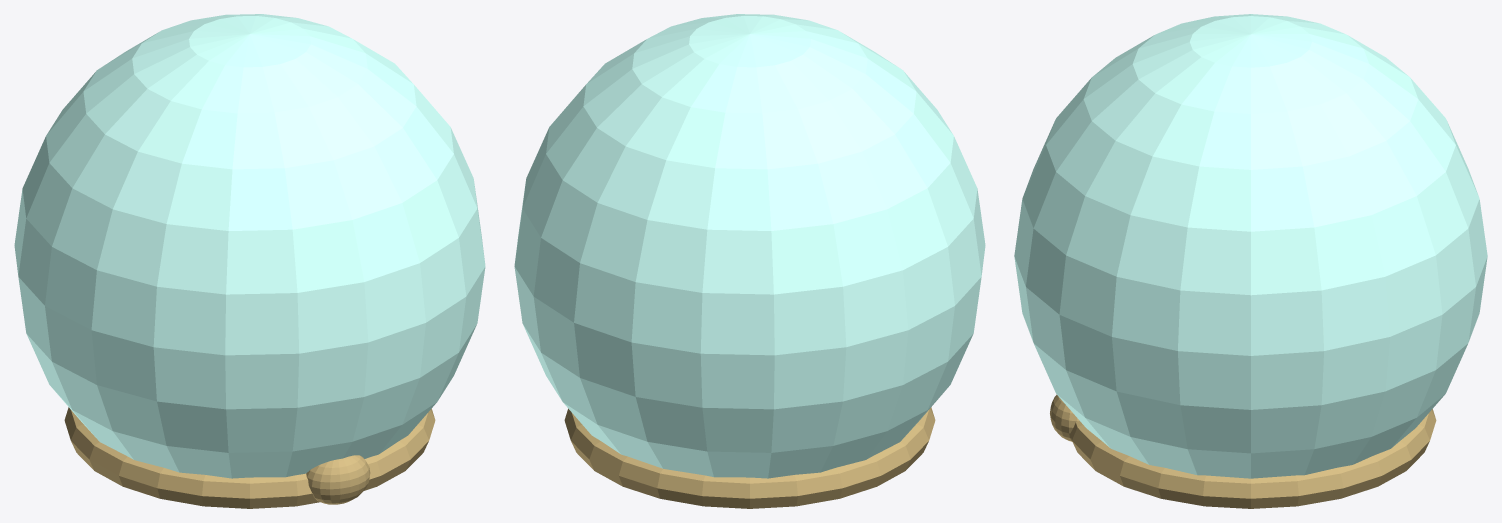
The model's file is wear_glass_helmet.glb.
3 views of the same model, side by side, from view 1: azimuth 30°, elevation 25°; view 2: azimuth 150°, elevation 25°; view 3: azimuth 270°, elevation 25° (orthographic).
Parts seen in each view (by area): view 1: HelmetDome, Torus, AirValve; view 2: HelmetDome, Torus; view 3: HelmetDome, Torus, AirValve.
Part boxes in pixels (box(x1,y1,x2,y2)): HelmetDome: box(14, 14, 485, 478); Torus: box(64, 407, 435, 508); AirValve: box(306, 455, 370, 504); HelmetDome: box(514, 14, 985, 478); Torus: box(564, 407, 935, 508); HelmetDome: box(1014, 14, 1487, 478); Torus: box(1070, 409, 1436, 508); AirValve: box(1050, 394, 1079, 441).
Size of the model in its own units: 0.6 by 0.62 by 0.6.
